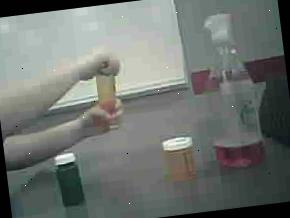Bottle A: (84, 63, 124, 131)
Bottle B: (158, 133, 204, 185)
Bottle C: (51, 146, 94, 212)
hazard: (198, 6, 276, 174)
